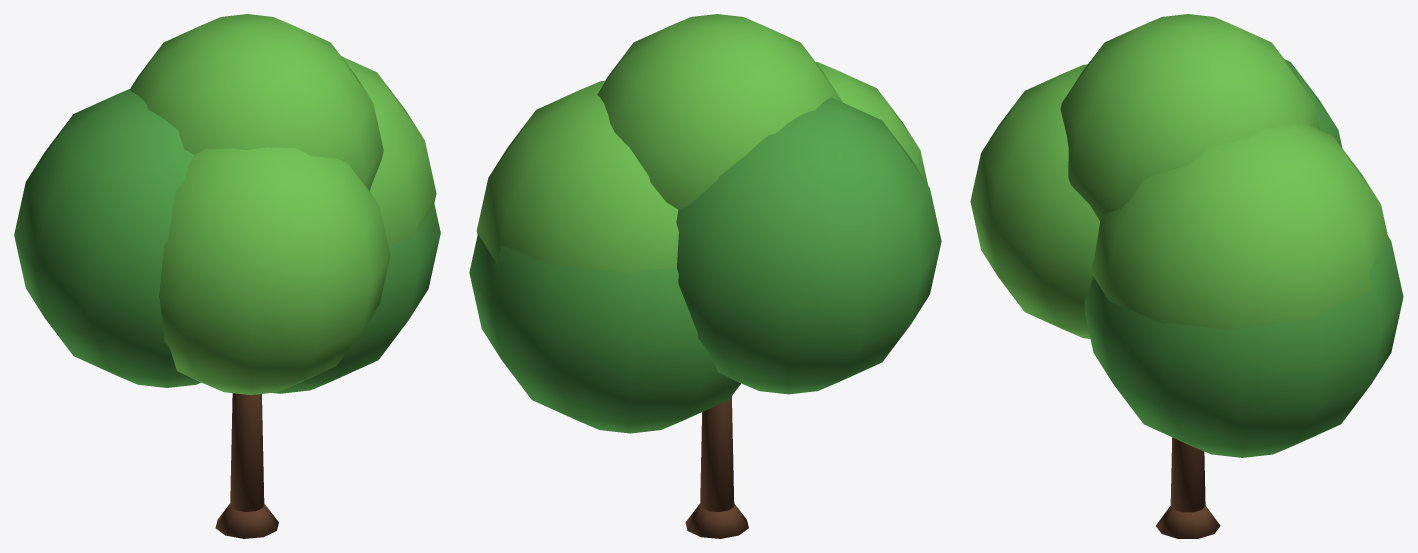
Rendered from tree_round_b.gltf.
3 renders of one model, left to right at view 1: azimuth 30°, elevation 25°; view 2: azimuth 150°, elevation 25°; view 3: azimuth 270°, elevation 25°, orthographic.
Parts seen in each view (by area): view 1: tree_round_b_mesh; view 2: tree_round_b_mesh; view 3: tree_round_b_mesh.
Boxes of the visible parts, x1=… form: tree_round_b_mesh: x1=14, y1=14, x2=440, y2=538; tree_round_b_mesh: x1=469, y1=14, x2=941, y2=538; tree_round_b_mesh: x1=970, y1=14, x2=1403, y2=538.
Size of what is drawn, in the model's own units: 5.79 by 6.77 by 5.32.
